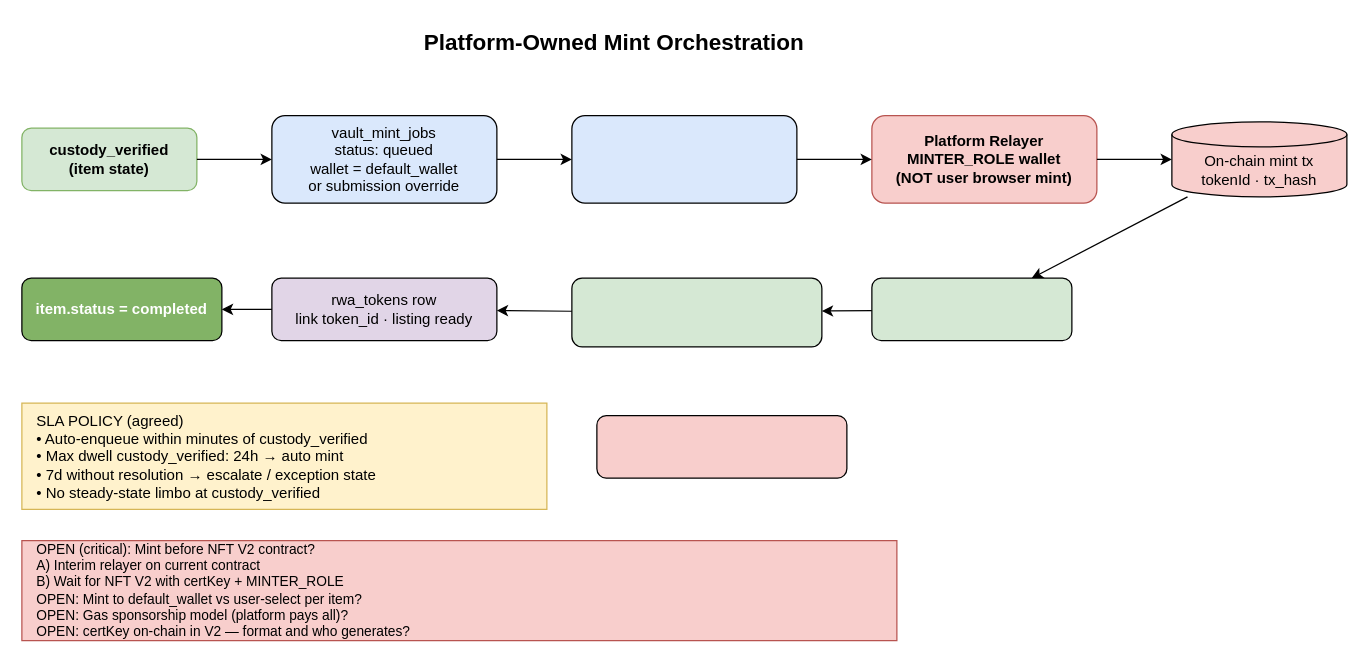
This 1369x663 diagram has some shape labels left out. Here are the shapes that lost their labels. From the top down, the centre of each, then its label:
At (684,158): "Mint Worker (BullMQ) idempotent by item_id attempt_count · backoff".
At (696,312): "asset_cert_registry INSERT active (grader, cert_number) UNIQUE".
At (971,309): "Tx watcher / receipt mint_confirmed".
At (721,446): "mint_failed → retry queue max attempts → manual ops".
